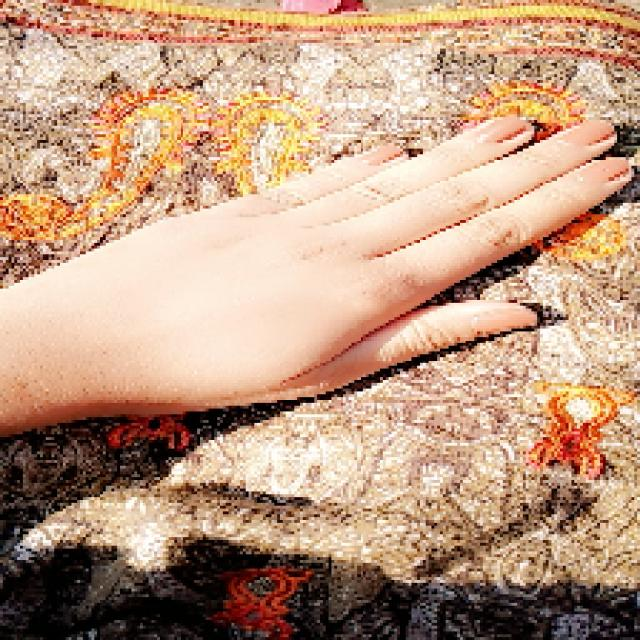Nail: (472, 309, 538, 336), (560, 120, 614, 146), (478, 116, 531, 142), (578, 158, 631, 182), (362, 144, 404, 166)
